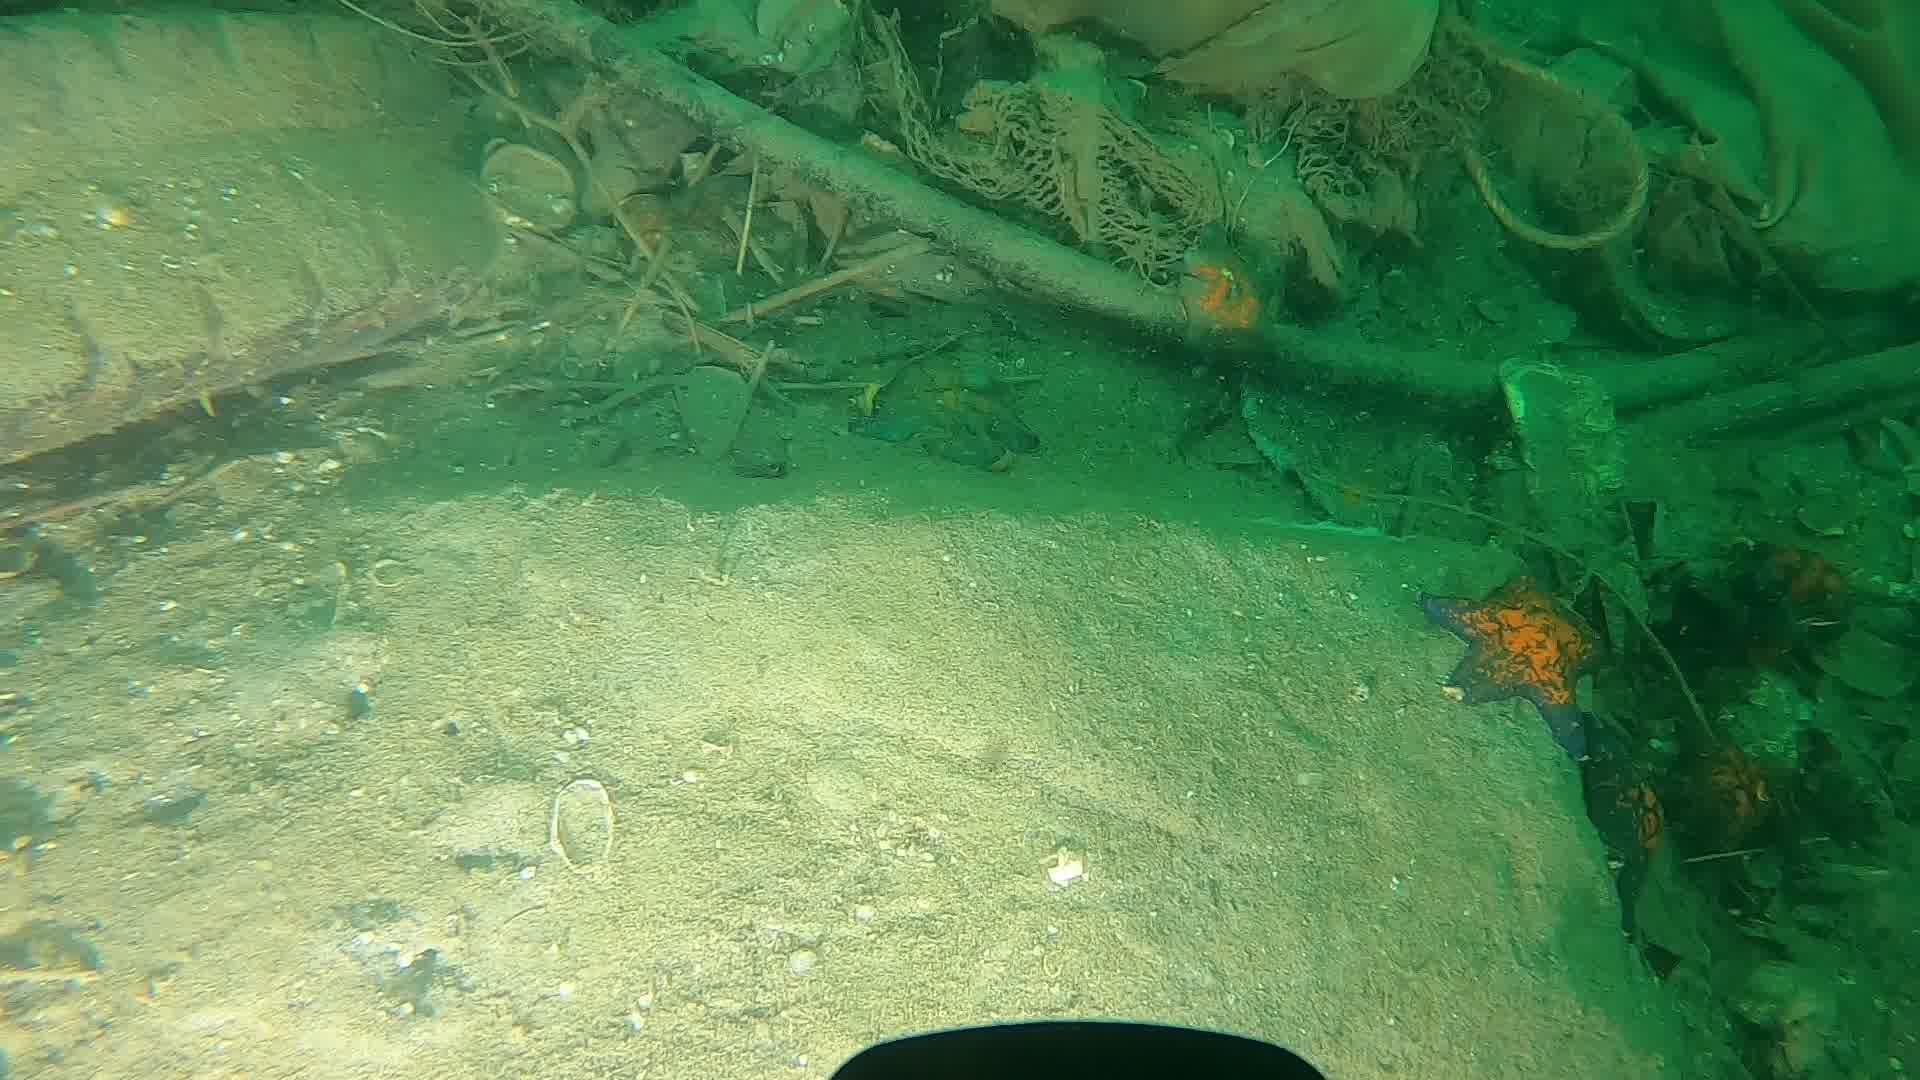fish net: (891, 58, 1208, 268)
rope: (1456, 53, 1650, 252)
